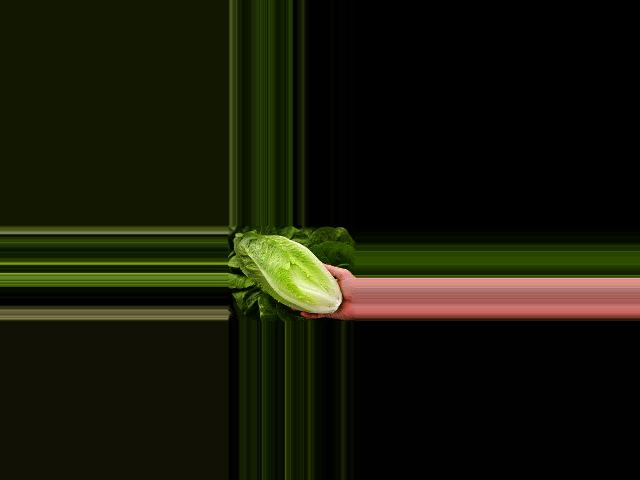lettuce: (233, 231, 343, 316)
